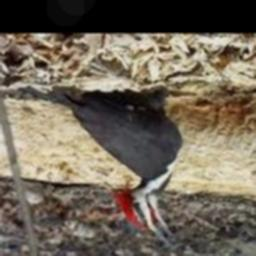Woodpecker: (18, 86, 184, 246)
